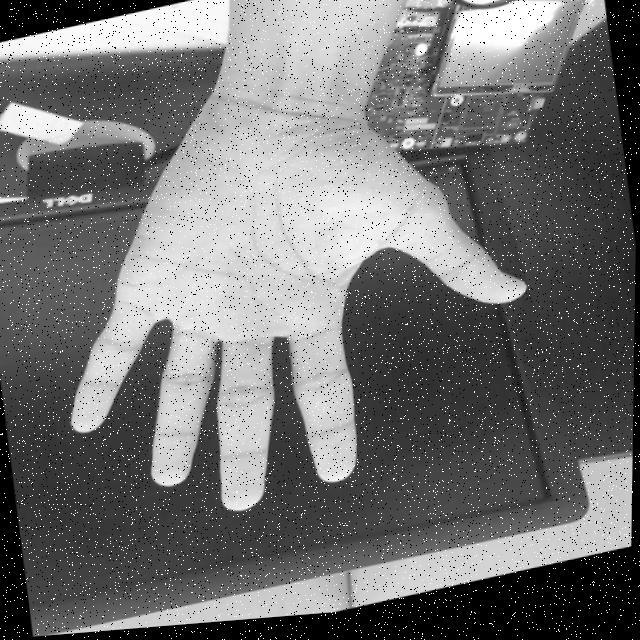no-gloves: (27, 44, 554, 555)
